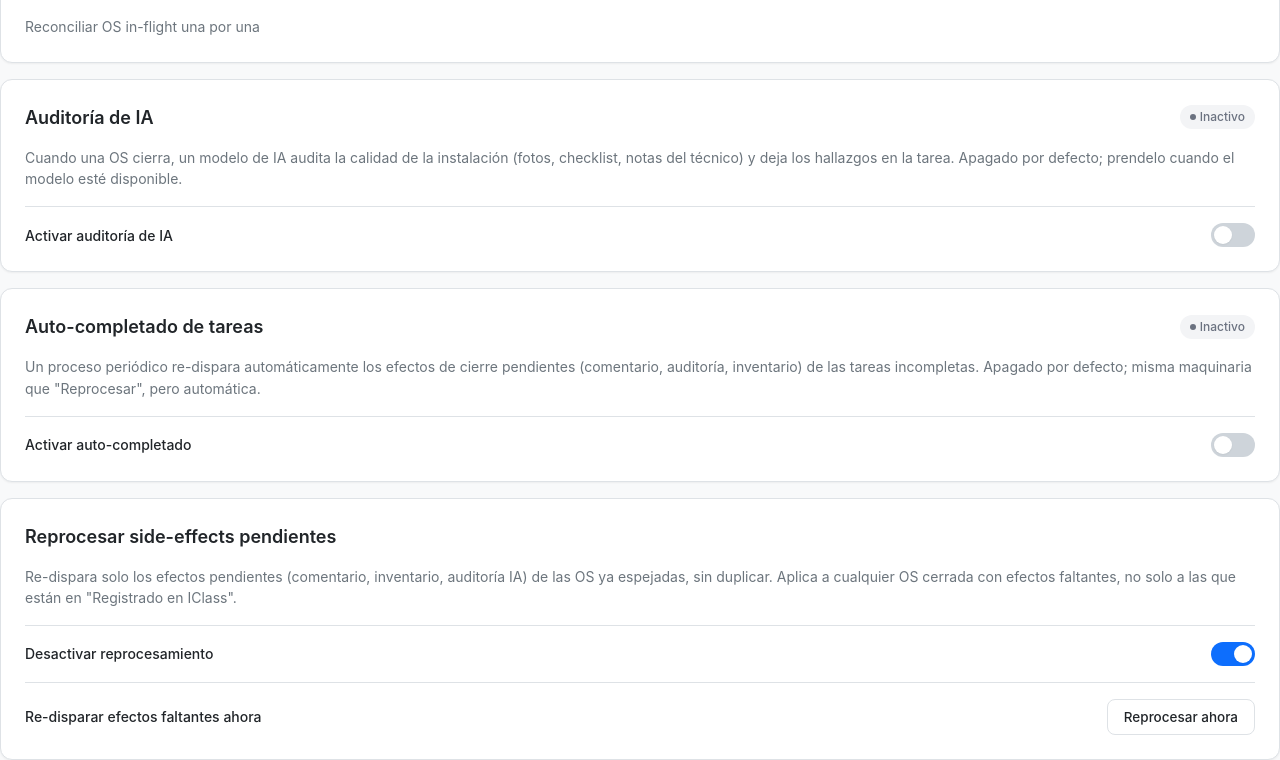
Test: IClassClosureFlagBody › shows "deshabilitado" banner when reprocess returns queued:false reason flag-disabled
This screenshot has width=1280, height=760.
(page scrolled)
Step 1. Click the button "Reprocesar ahora" → (1181, 717), box [1107,699,1255,735]
(page scrolled)
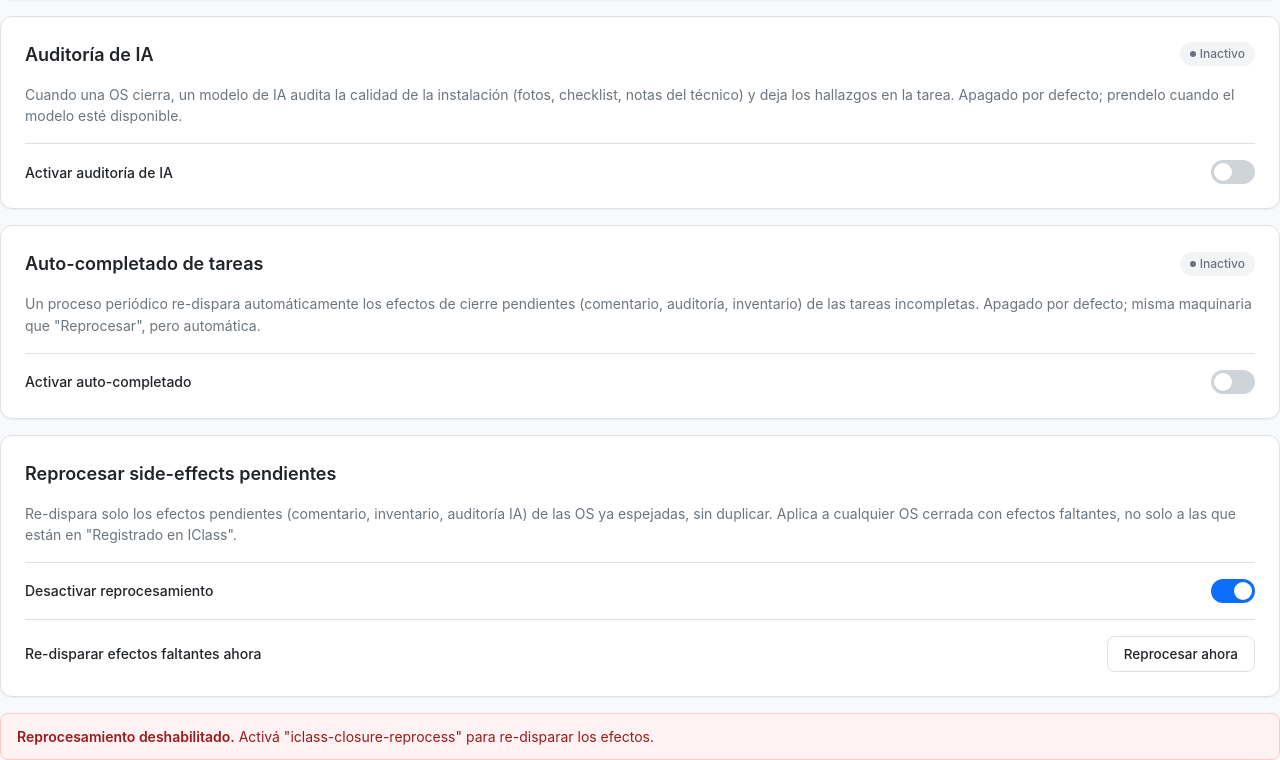
expect the text "Reprocesamiento deshabilitado." is shown: met, box [17,728,235,745]
